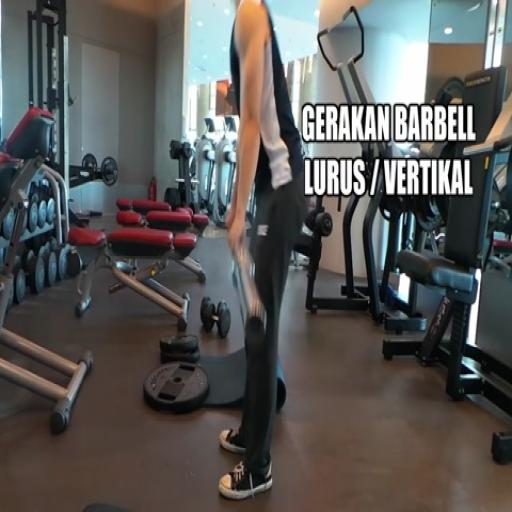exercise: (214, 0, 310, 503)
